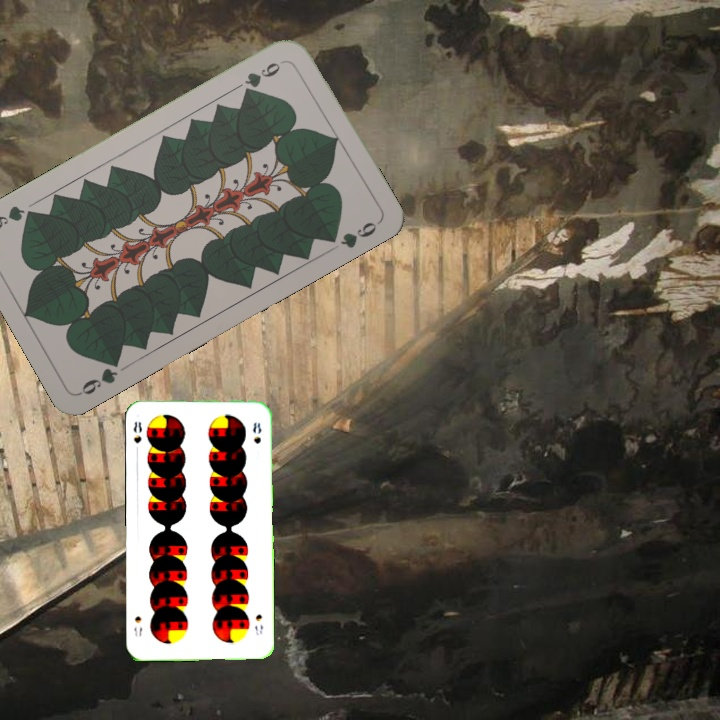G9: (75, 352, 124, 398), (239, 56, 289, 98)
S8: (130, 418, 144, 456), (251, 610, 266, 638)
